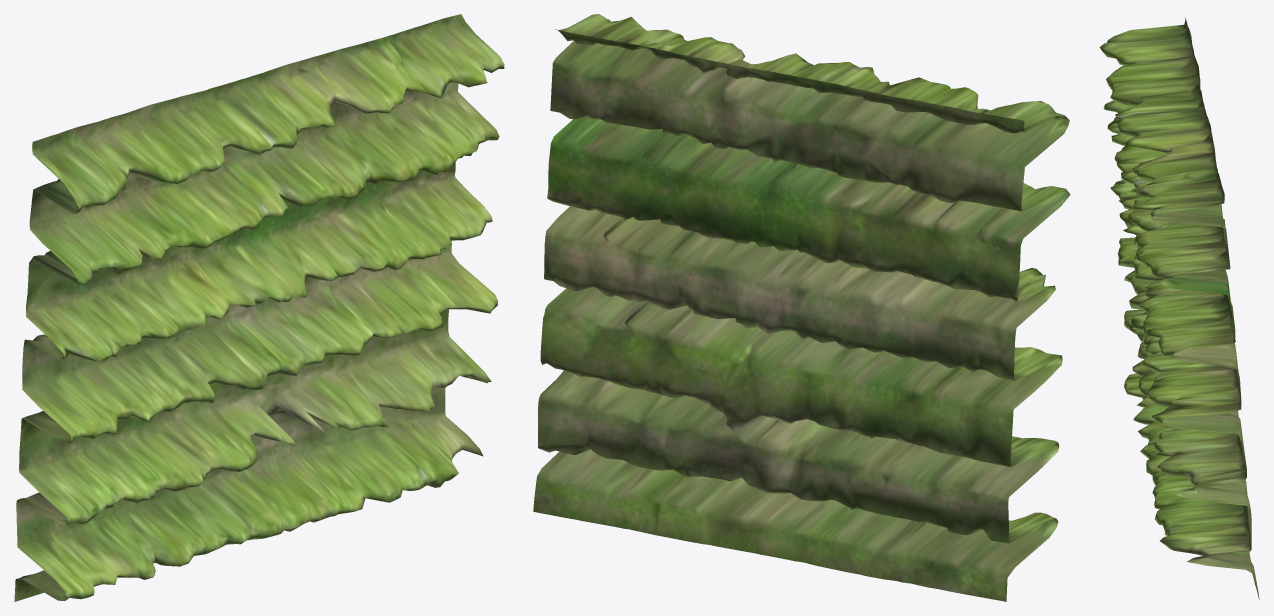
Rendered from map_20_30.obj.
3 renders of one model, left to right at view 1: azimuth 30°, elevation 25°; view 2: azimuth 150°, elevation 25°; view 3: azimuth 270°, elevation 25°, orthographic. The views are drawn at different scales.
Parts seen in each view (by area): view 1: map_20_30.obj; view 2: map_20_30.obj; view 3: map_20_30.obj.
Part boxes in pixels (x1,y1,x2,y2): map_20_30.obj: (14, 14, 504, 601); map_20_30.obj: (533, 14, 1070, 601); map_20_30.obj: (1099, 17, 1259, 599).
Bounding box in the file's own units: 10 × 10 × 3.62.
Materials: 1 (1 with a texture image).
